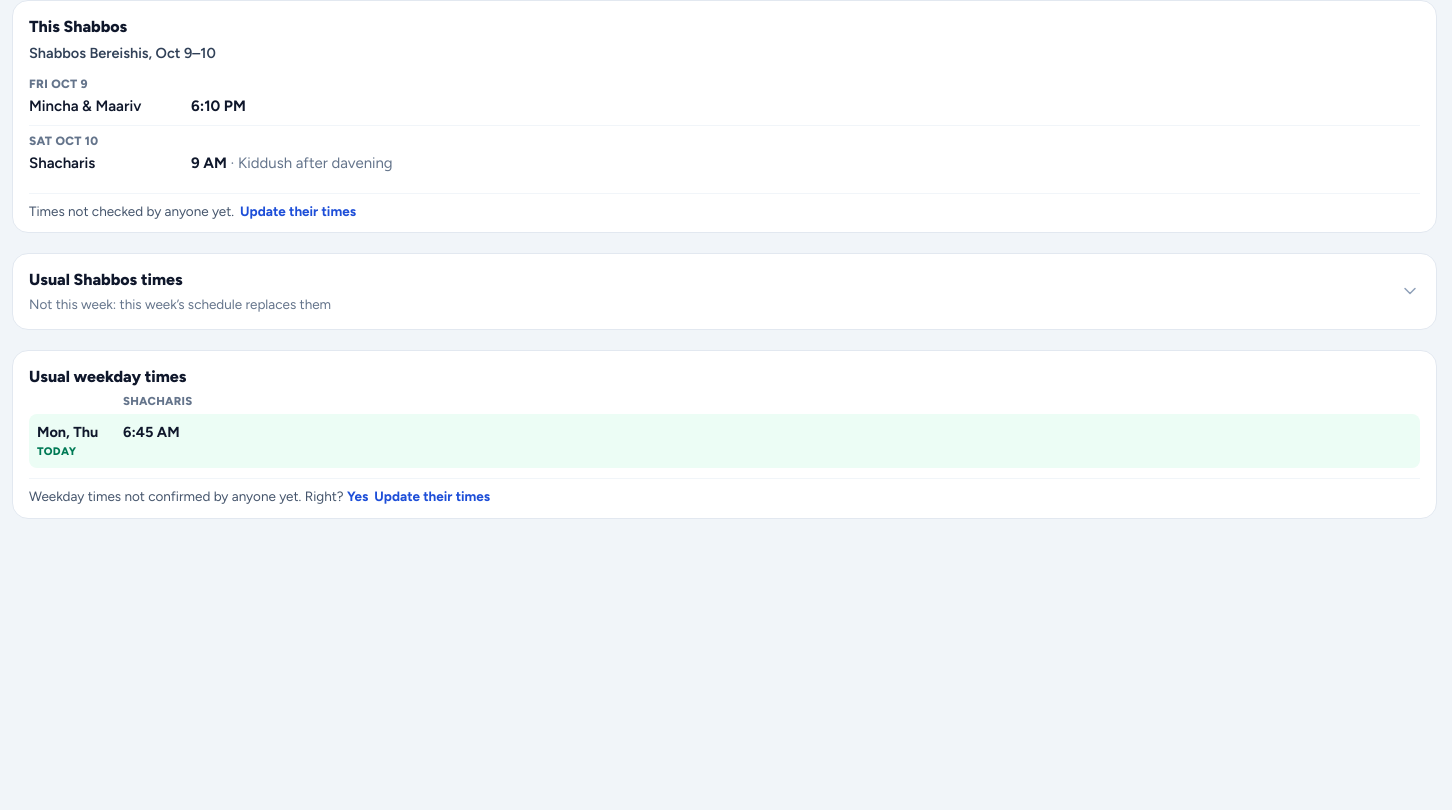
this week’s schedule (Oct 6) › the usual times, opened, still say this week’s replace them, and fold again
What coordinates should you click on to do the following:
click the button with test id "davening-folded"
I would click on:
 (106, 280)
Its box is 12,253 -> 1437,330.
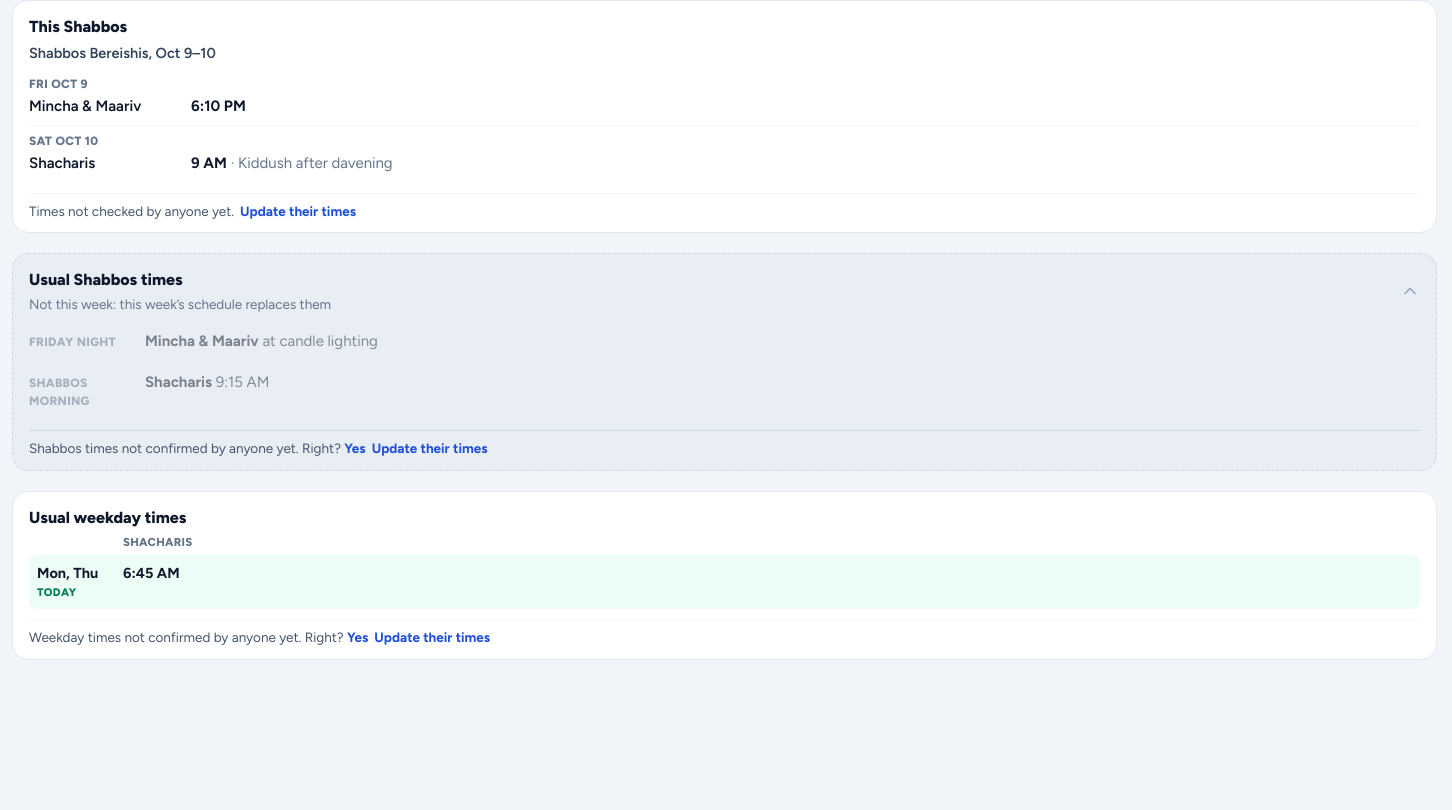
Expected: the text with test id "davening-fold-reason" reads "Not this week: this week’s schedule replaces them", 29,296 -> 331,312
Expected: the element with test id "davening-shabbos" shows "Shacharis 9:15 AM", 12,253 -> 1437,471
Expected: the text "9:15 AM" is shown, 216,373 -> 269,391
What coordinates should you click on to do the following:
click the button with aria-label "Fold Usual Shabbos times"
I would click on:
 (106, 280)
Its box is 29,258 -> 1420,315.
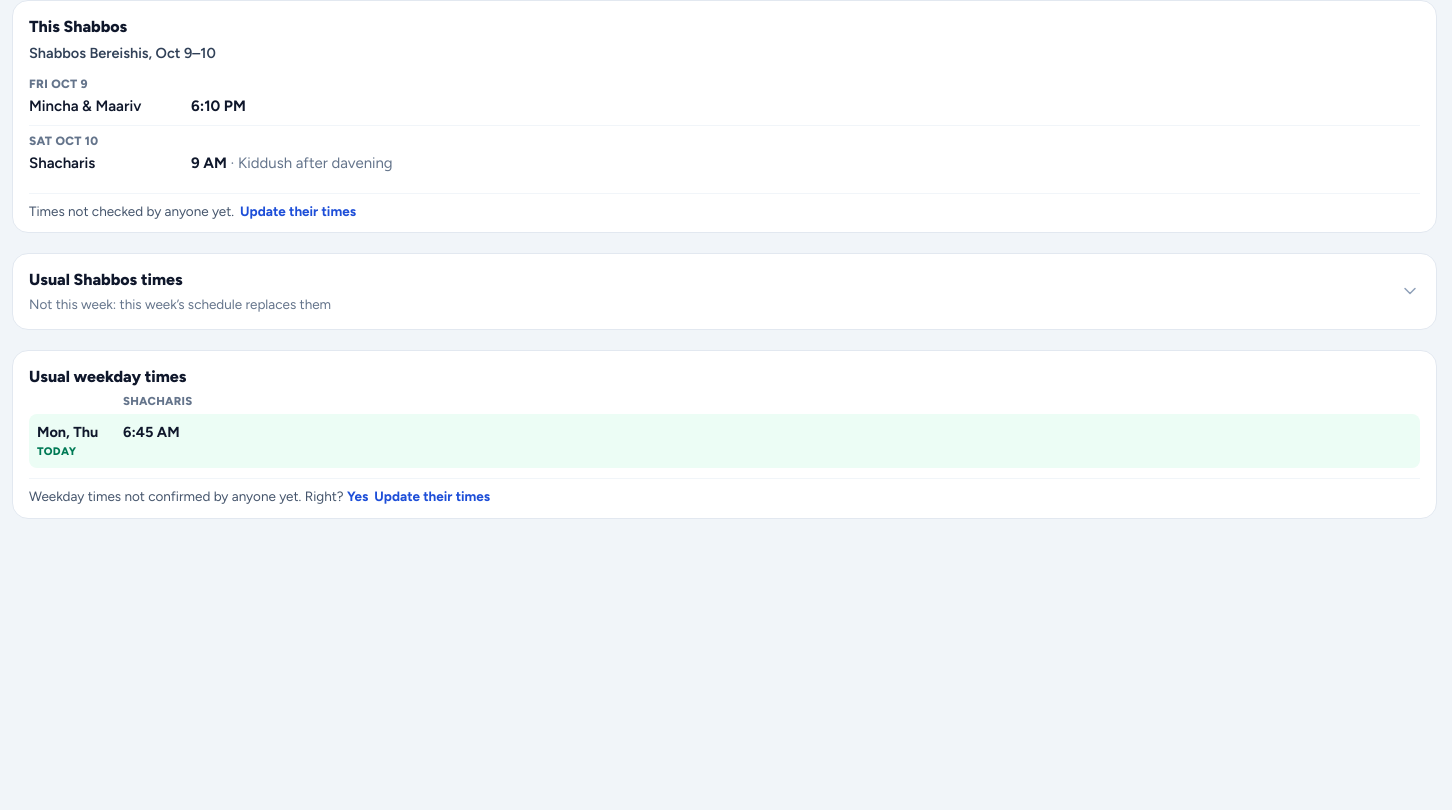
Expected: the button with test id "davening-folded" shows "Usual Shabbos times", 12,253 -> 1437,330
Expected: the element with test id "davening-shabbos" is gone
